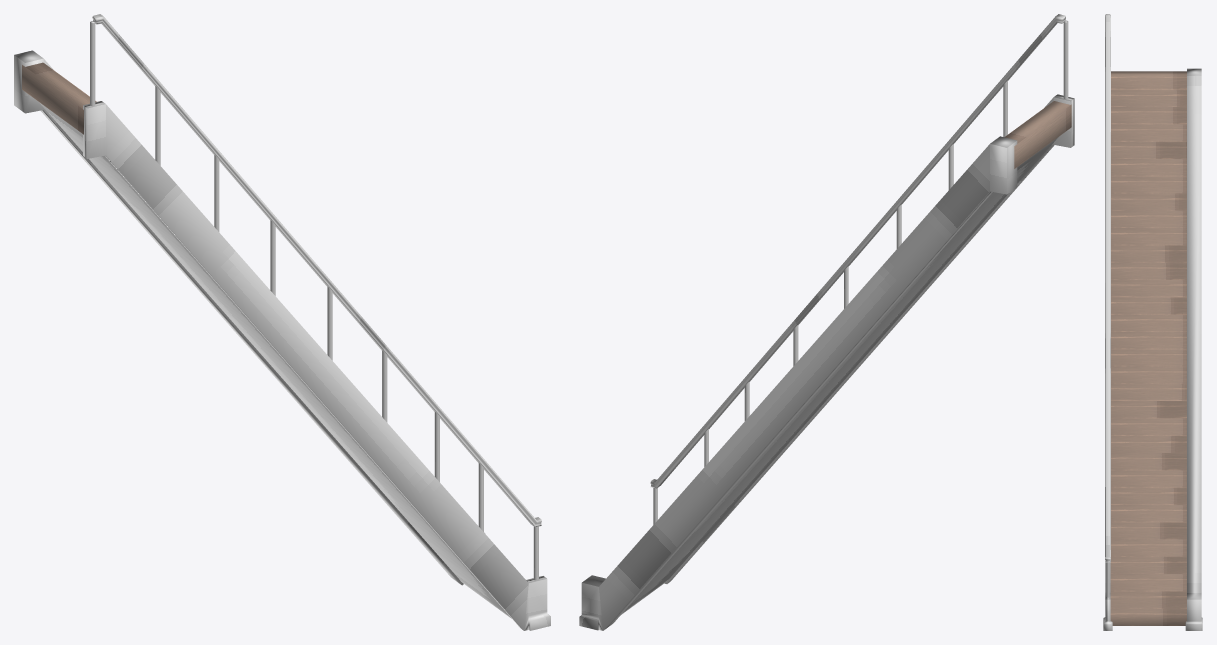
The model's file is SM_StairsChurch.fbx.
3 views of the same model, side by side, from view 1: azimuth 30°, elevation 25°; view 2: azimuth 150°, elevation 25°; view 3: azimuth 270°, elevation 25° (orthographic). The views are drawn at different scales.
Visible parts, largest first — view 1: SM_StairsChurch; view 2: SM_StairsChurch; view 3: SM_StairsChurch.
Part boxes in pixels (x1=…): SM_StairsChurch: x1=14, y1=14, x2=550, y2=630; SM_StairsChurch: x1=579, y1=14, x2=1074, y2=630; SM_StairsChurch: x1=1103, y1=14, x2=1202, y2=630.
Size of the model in its own units: 623 by 176 by 923.
